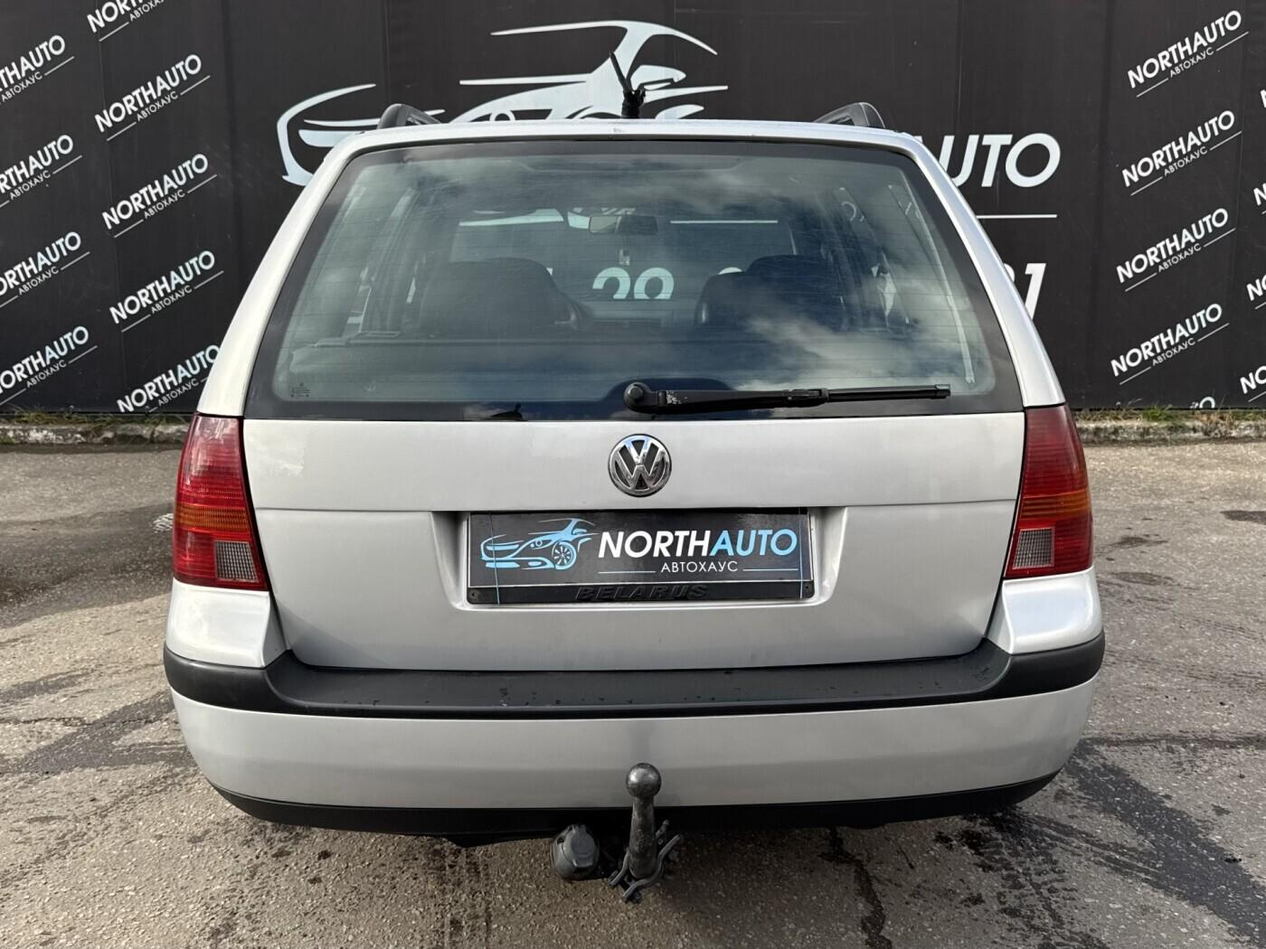Golf_1997-2006: (148, 105, 1128, 830)
